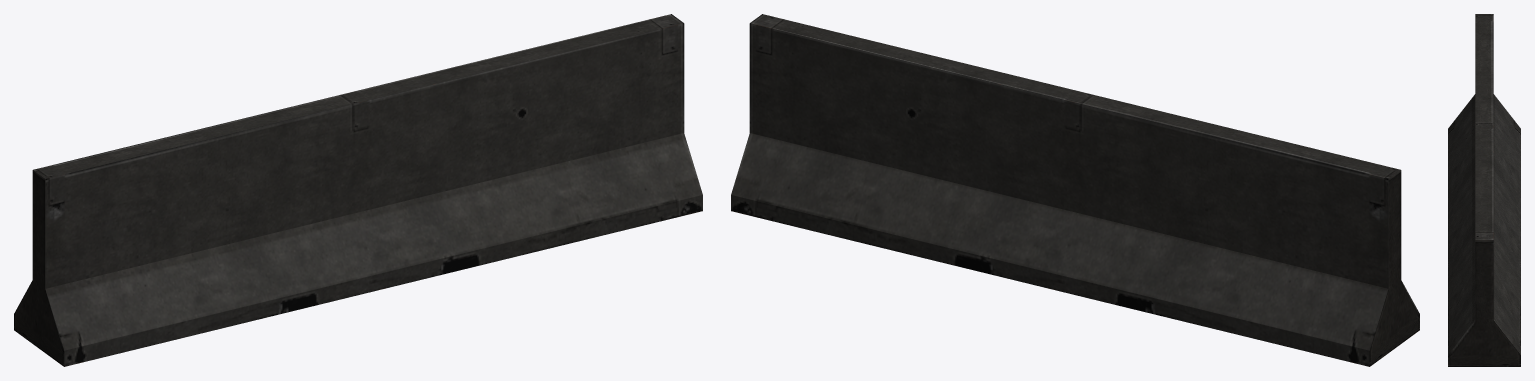
The model's file is barricade_b_1.obj.
The picture shows the model from 3 angles, left to right: view 1: azimuth 30°, elevation 25°; view 2: azimuth 150°, elevation 25°; view 3: azimuth 270°, elevation 25°; orthographic projection. The views are drawn at different scales.
Visible parts, largest first — view 1: barricade_b_1; view 2: barricade_b_1; view 3: barricade_b_1.
Boxes of the visible parts, bbox=[...] form: barricade_b_1: bbox=[14, 14, 702, 366]; barricade_b_1: bbox=[731, 14, 1419, 366]; barricade_b_1: bbox=[1448, 14, 1520, 366].
Bounding box in the file's own units: 2.94 × 0.766 × 0.4.
